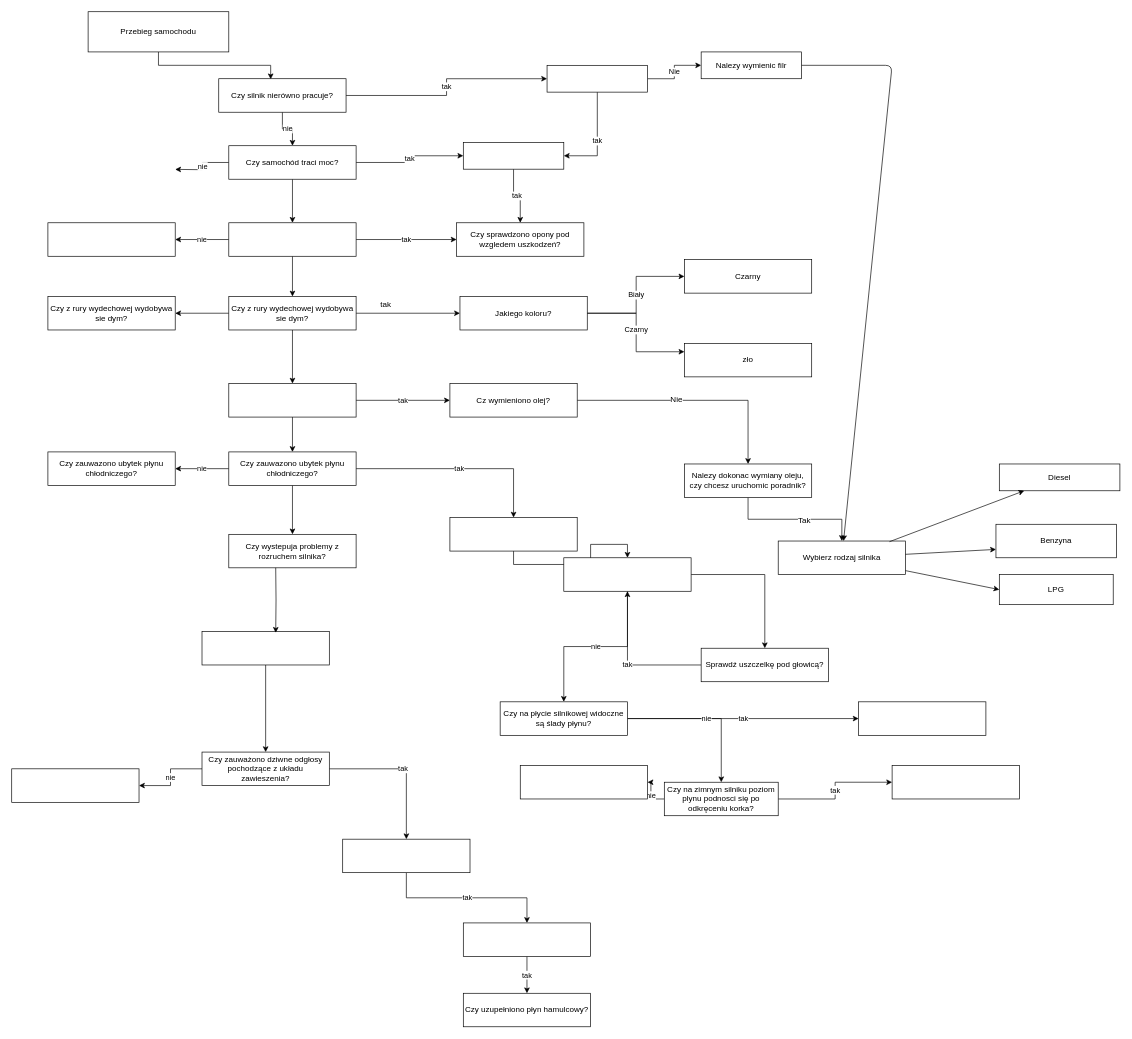
This 1132x1039 diagram has some shape labels left out. Each missing label, with the centre of its shape:
Czy dokonano wymiany klocków hamulcowych: [527,939]
Czy dokonano wymiany tarcz hamulcowych: [406,856]
Czy pod korkiem wlewu oleju widoczna jest biała "maź" ?: [627,574]
Czy ubytek pojawia się często: [513,534]
Czy wymieniono filtr paliwa: [597,78]
Czy wymieniono filtr powietrza?: [513,155]
Czy występują drgania podczas jazdy?: [292,239]
Czy zauwazono ubytek oleju?: [292,400]
Czy zauważono ubytek płynu chłodniczego?: [265,648]
Sprawdź poziom ciśnienia w układzie chłodzącym: [955,782]
Sprawdź przewody układu chłodzącego: [922,718]
Sprawdź szczelność zbiornika wyrównawczego: [584,782]
